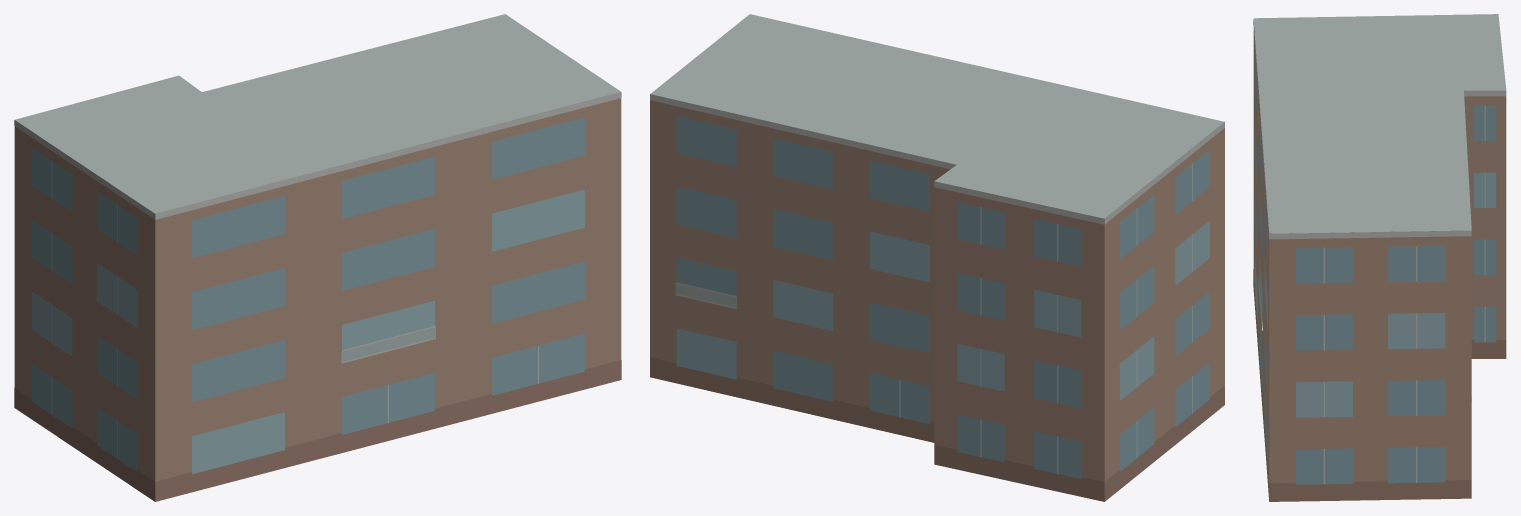
The model's file is survey-upis-32575997.glb.
The picture shows the model from 3 angles, left to right: view 1: azimuth 30°, elevation 25°; view 2: azimuth 150°, elevation 25°; view 3: azimuth 270°, elevation 25°; orthographic projection. The views are drawn at different scales.
Visible parts, largest first — view 1: survey-upis-32575997.tmp; view 2: survey-upis-32575997.tmp; view 3: survey-upis-32575997.tmp.
Part boxes in pixels (box(x1,y1,x2,y2)): survey-upis-32575997.tmp: box(14, 14, 621, 501); survey-upis-32575997.tmp: box(650, 14, 1224, 501); survey-upis-32575997.tmp: box(1253, 14, 1506, 501).
Bounding box in the file's own units: 20.23 × 11.5 × 9.84.
